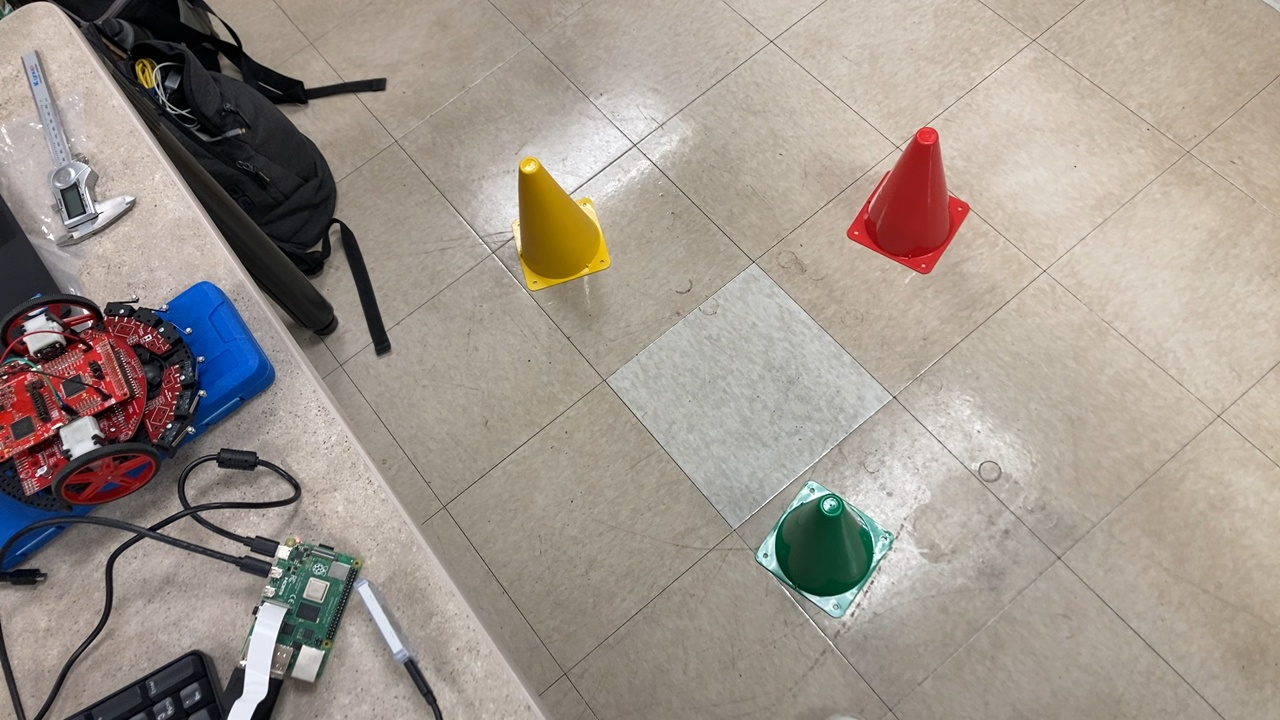green_cone: (754, 478, 897, 624)
red_cone: (847, 122, 971, 281)
yellow_cone: (508, 155, 615, 298)
